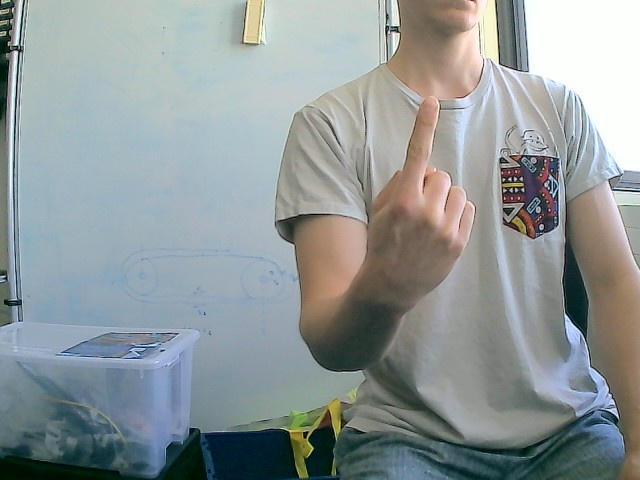up: (356, 94, 477, 313)
